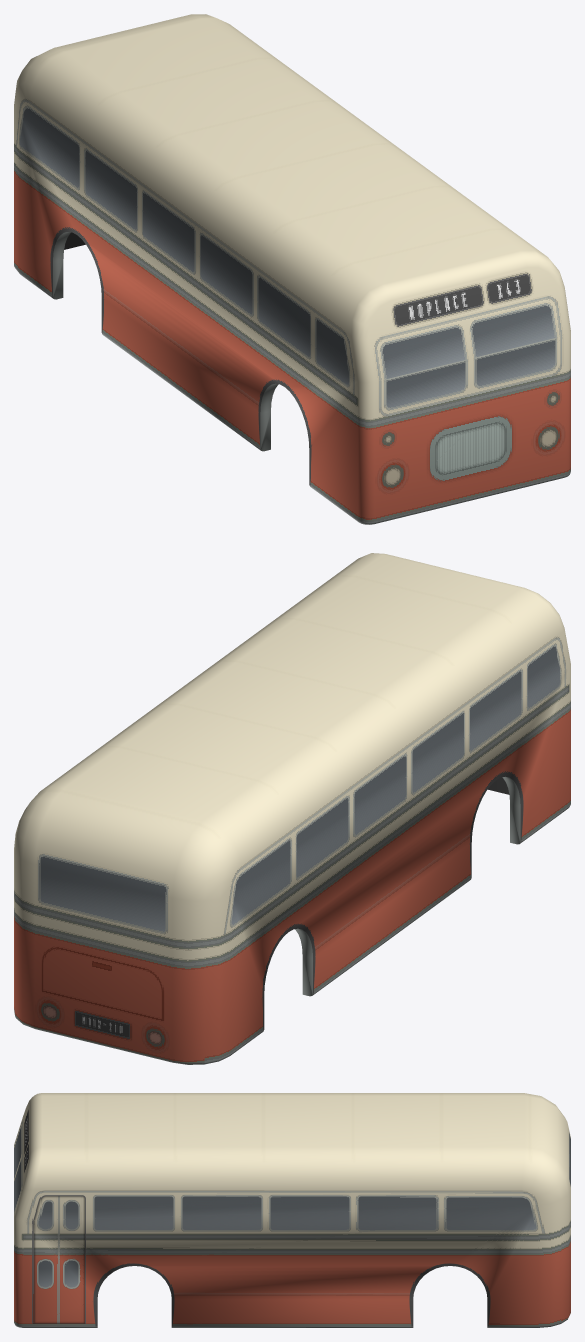
File: bus_body_red.gltf
The picture shows the model from 3 angles, top to bottom: view 1: azimuth 30°, elevation 25°; view 2: azimuth 150°, elevation 25°; view 3: azimuth 270°, elevation 25°; orthographic projection. The views are drawn at different scales.
Parts seen in each view (by area): view 1: bus; view 2: bus; view 3: bus.
Boxes of the visible parts, x1,y1,x2,y2 form: bus: (14,14,570,524); bus: (14,553,570,1064); bus: (14,1093,570,1327).
Bounding box in the file's own units: 2 × 2 × 6.
Materials: 1 (1 with a texture image).
